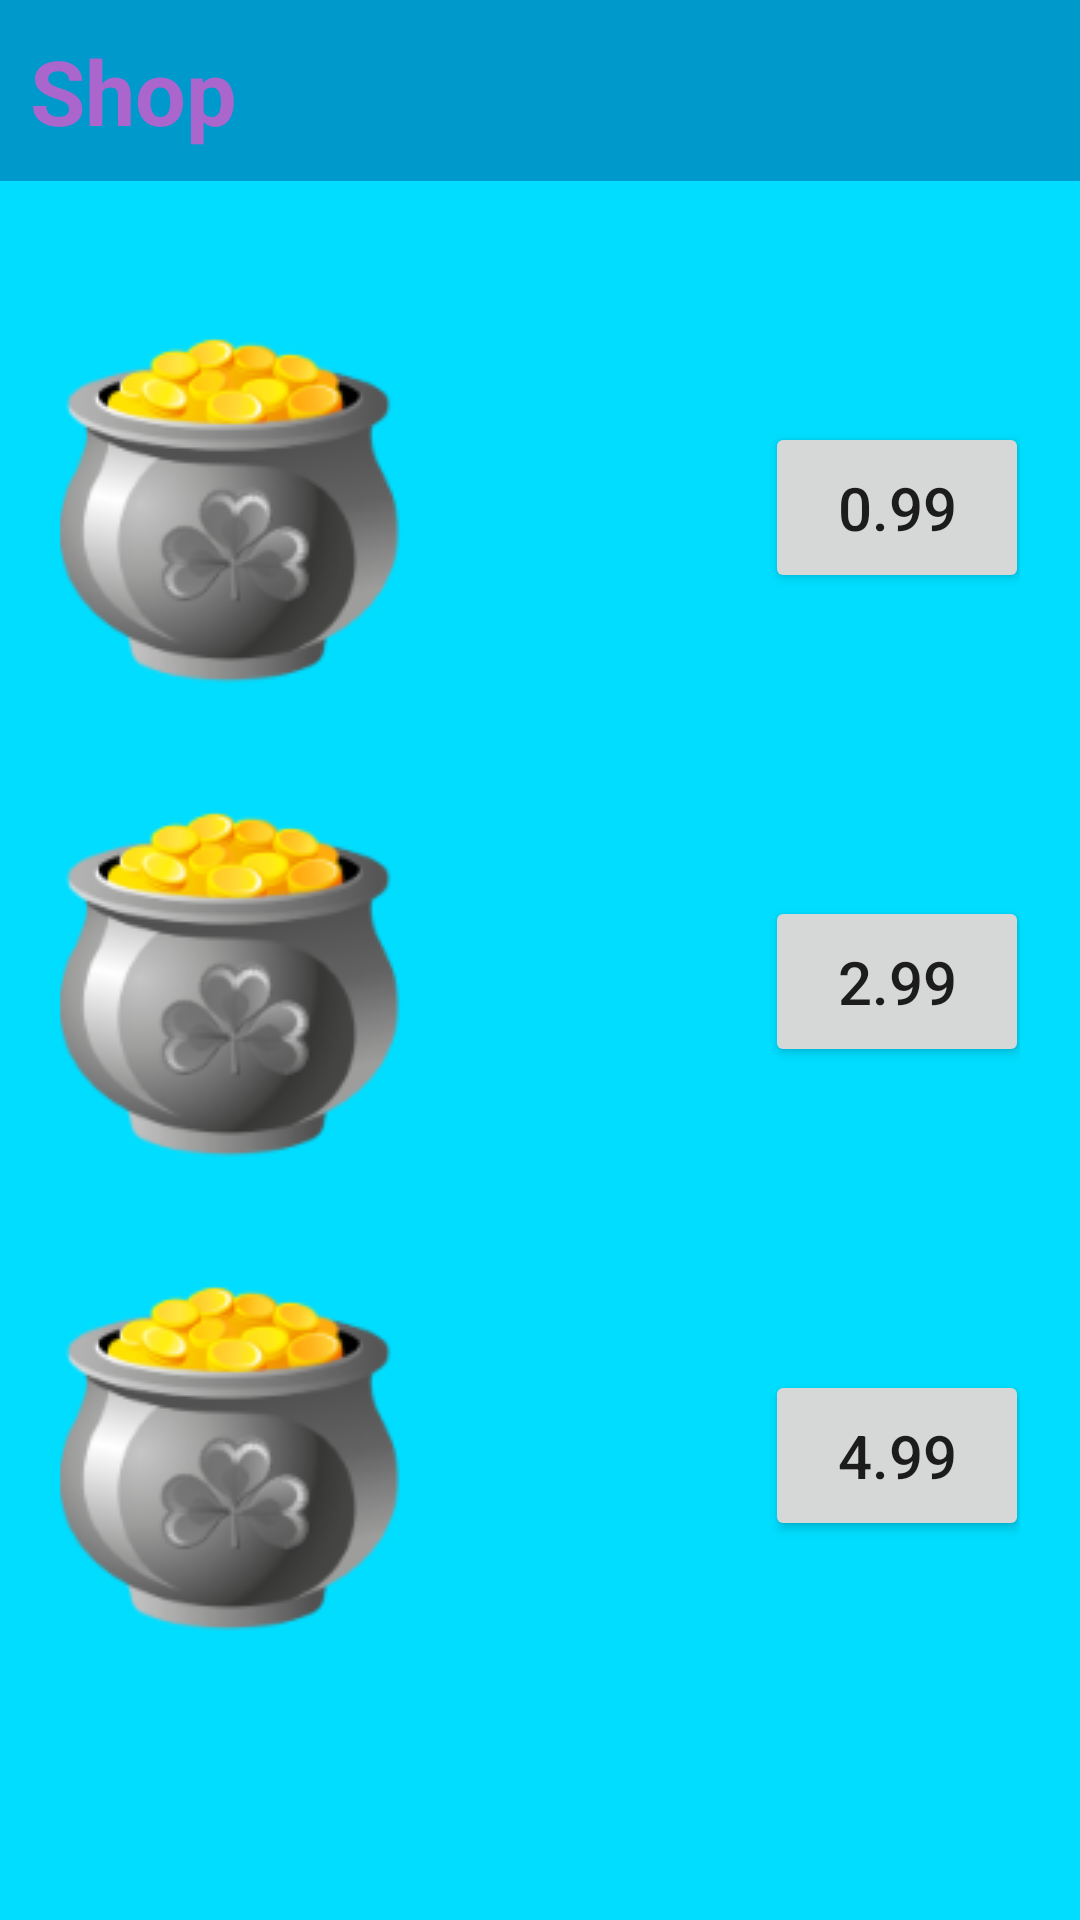

Where to tap for icons on this 1080x1920 app screen, as (x=x, y=y):
coin pot: (x=230, y=510), (x=230, y=984), (x=230, y=1458)
